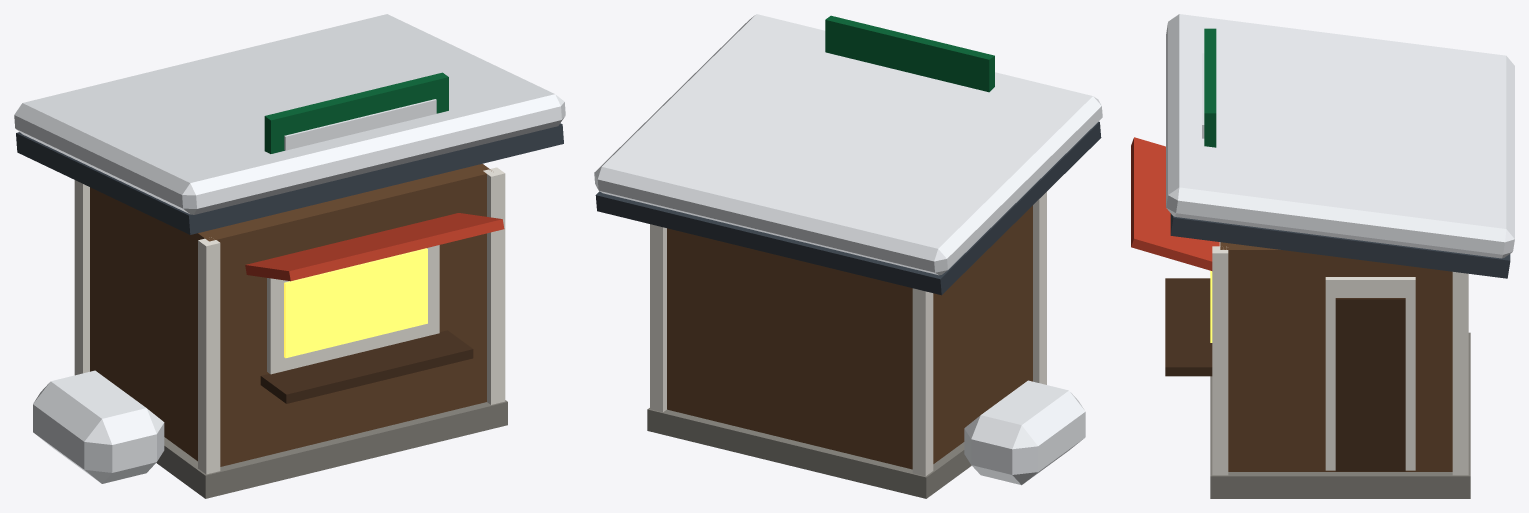
Rendered from ticket-booth.glb.
The picture shows the model from 3 angles, left to right: view 1: azimuth 30°, elevation 25°; view 2: azimuth 150°, elevation 25°; view 3: azimuth 270°, elevation 25°; orthographic projection. The views are drawn at different scales.
Parts seen in each view (by area): view 1: ticket-booth; view 2: ticket-booth; view 3: ticket-booth.
Boxes of the visible parts, box(x1,y1,x2,y2) form: ticket-booth: box(14, 14, 565, 498); ticket-booth: box(594, 14, 1102, 498); ticket-booth: box(1131, 14, 1514, 498).
Size of the model in its own units: 4.75 by 3.93 by 3.84.
